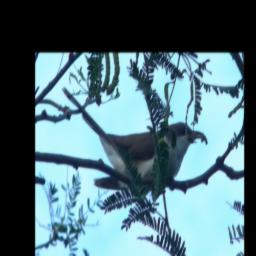Cuckoo: (58, 84, 207, 204)
